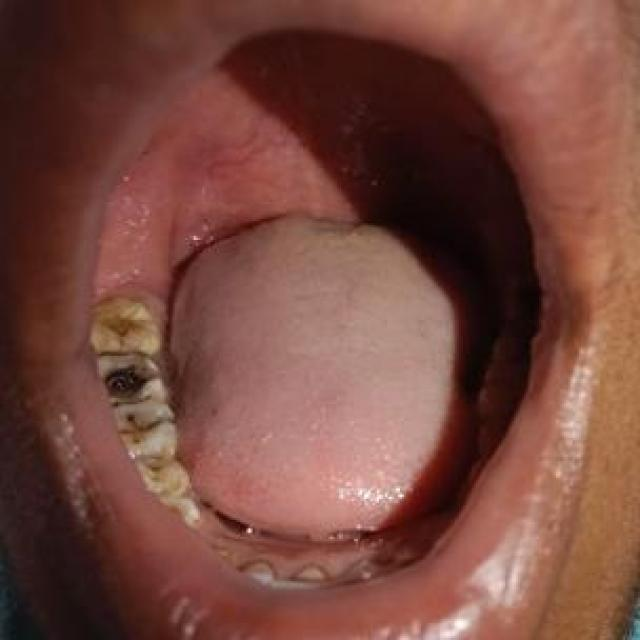processing_area: (90, 51, 463, 562)
